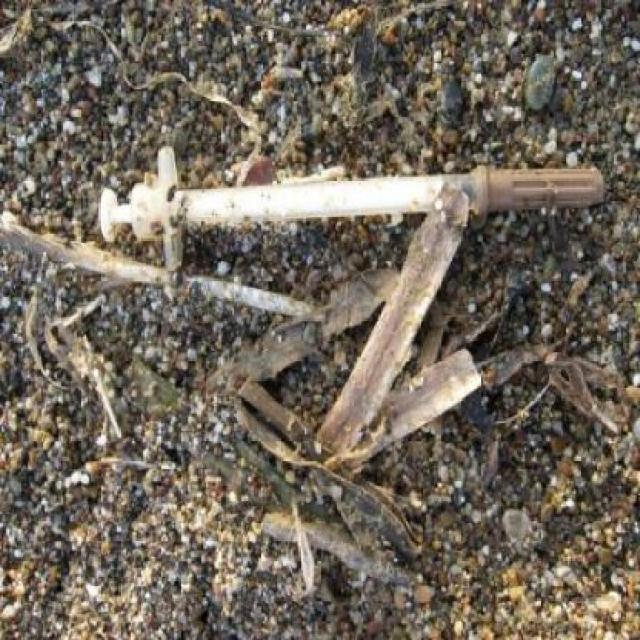garbage: (66, 140, 624, 272)
